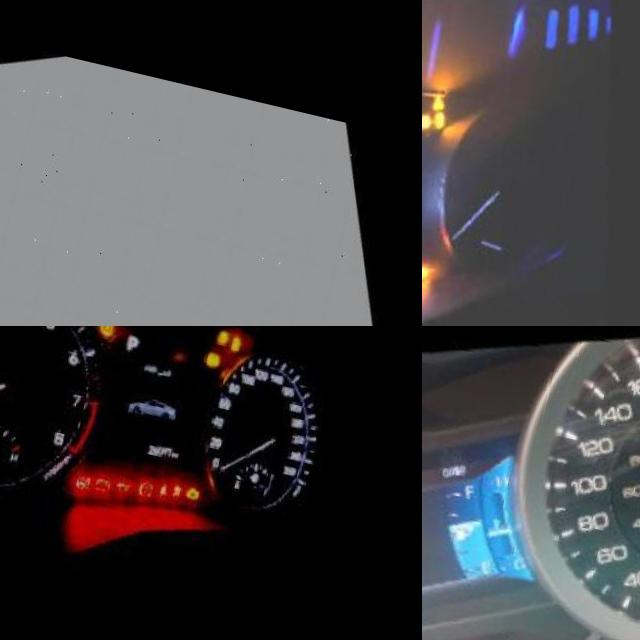Seat Belt: (163, 467, 179, 487)
